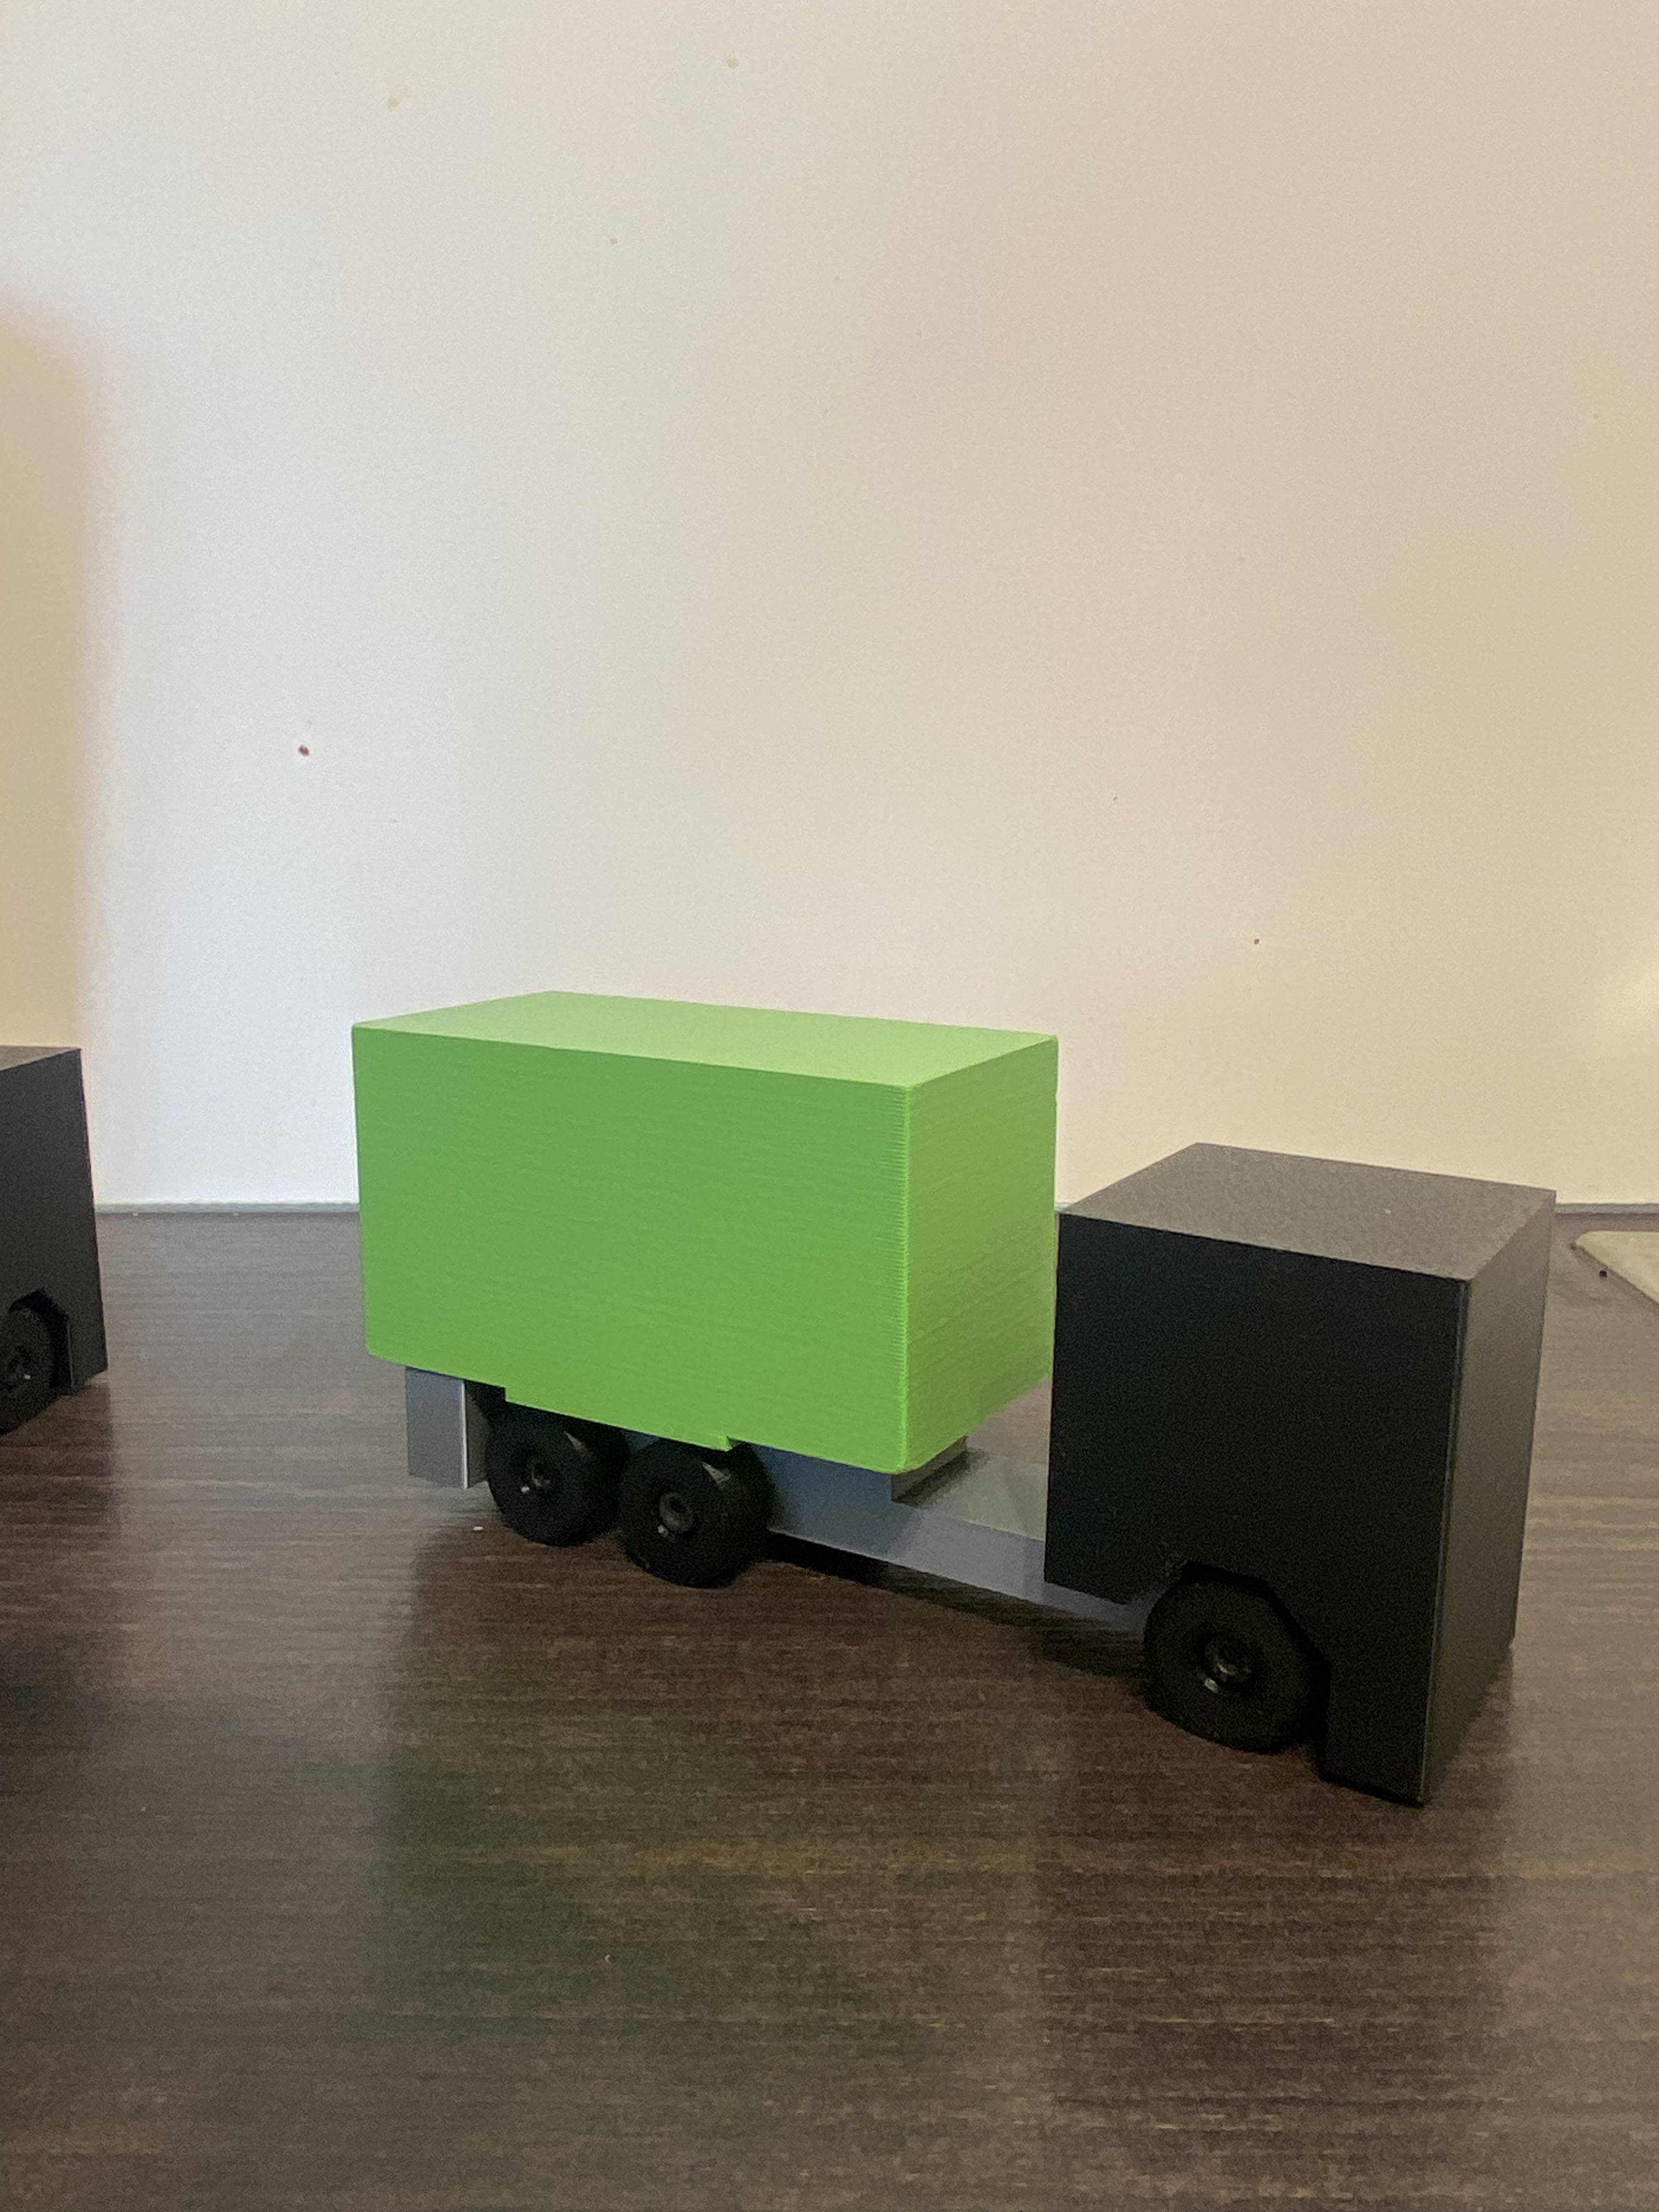green_truck: (352, 989, 1561, 1813)
